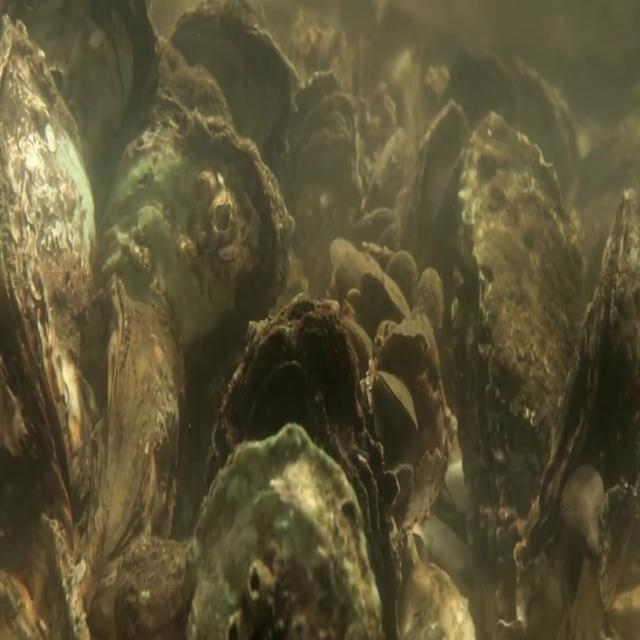Oyster-Closed: (197, 294, 401, 639), (2, 11, 99, 513), (105, 100, 298, 347), (182, 420, 390, 639), (511, 190, 632, 562), (456, 106, 595, 428), (85, 269, 189, 605), (500, 52, 585, 194), (409, 97, 473, 248), (361, 269, 413, 341), (378, 324, 434, 384), (374, 372, 419, 441)
Oyster-Indeterminate: (15, 3, 163, 152), (168, 5, 295, 126)
Oyster-Open: (281, 58, 361, 196)
